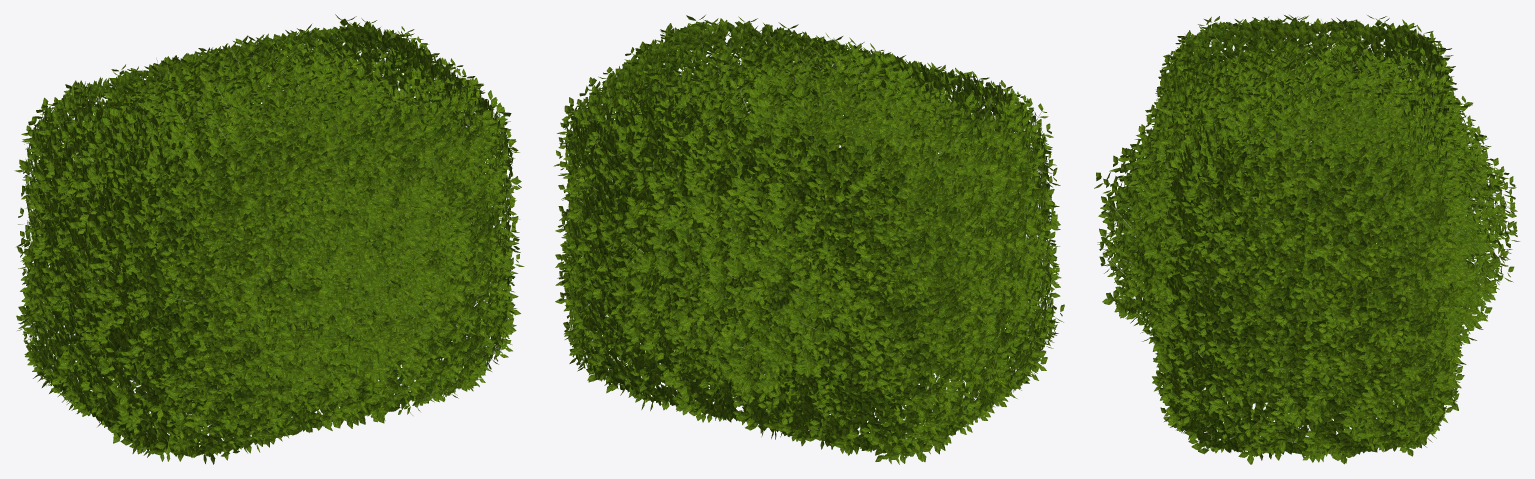
The model's file is boxwood-sempervirens-forma-original.glb.
3 renders of one model, left to right at view 1: azimuth 30°, elevation 25°; view 2: azimuth 150°, elevation 25°; view 3: azimuth 270°, elevation 25°, orthographic. The views are drawn at different scales.
Parts seen in each view (by area): view 1: BOXWOOD_HEDGE-leaf-green, BOXWOOD_HEDGE-leaf-mid, BOXWOOD_NATURAL-leaf-green, BOXWOOD_HEDGE-leaf-olive, BOXWOOD_HEDGE-leaf-tip, BOXWOOD_HEDGE-leaf-dark, BOXWOOD_NATURAL-leaf-mid, BOXWOOD_NATURAL-leaf-tip, BOXWOOD_NATURAL-leaf-olive, BOXWOOD_HEDGE-leaf-shadow, BOXWOOD_NATURAL-leaf-dark, BOXWOOD_HEDGE-leaf-young (+6 smaller); view 2: BOXWOOD_HEDGE-leaf-green, BOXWOOD_HEDGE-leaf-mid, BOXWOOD_HEDGE-leaf-olive, BOXWOOD_NATURAL-leaf-green, BOXWOOD_HEDGE-leaf-tip, BOXWOOD_HEDGE-leaf-dark, BOXWOOD_NATURAL-leaf-mid, BOXWOOD_NATURAL-leaf-olive, BOXWOOD_NATURAL-leaf-tip, BOXWOOD_HEDGE-leaf-shadow, BOXWOOD_NATURAL-leaf-dark, BOXWOOD_HEDGE-leaf-young (+6 smaller); view 3: BOXWOOD_HEDGE-leaf-green, BOXWOOD_HEDGE-leaf-mid, BOXWOOD_HEDGE-leaf-olive, BOXWOOD_NATURAL-leaf-green, BOXWOOD_HEDGE-leaf-tip, BOXWOOD_HEDGE-leaf-dark, BOXWOOD_NATURAL-leaf-mid, BOXWOOD_NATURAL-leaf-tip, BOXWOOD_NATURAL-leaf-olive, BOXWOOD_HEDGE-leaf-shadow, BOXWOOD_NATURAL-leaf-dark, BOXWOOD_HEDGE-leaf-young (+6 smaller).
Boxes of the visible parts, x1,y1,x2,y2 form: BOXWOOD_HEDGE-leaf-green: (14, 16, 521, 457); BOXWOOD_HEDGE-leaf-mid: (18, 14, 524, 464); BOXWOOD_NATURAL-leaf-green: (48, 39, 491, 414); BOXWOOD_HEDGE-leaf-olive: (22, 24, 518, 461); BOXWOOD_HEDGE-leaf-tip: (16, 18, 520, 463); BOXWOOD_HEDGE-leaf-dark: (24, 23, 513, 456); BOXWOOD_NATURAL-leaf-mid: (44, 40, 491, 411); BOXWOOD_NATURAL-leaf-tip: (51, 38, 494, 412); BOXWOOD_NATURAL-leaf-olive: (57, 49, 477, 414); BOXWOOD_HEDGE-leaf-shadow: (25, 25, 510, 456); BOXWOOD_NATURAL-leaf-dark: (55, 47, 487, 412); BOXWOOD_HEDGE-leaf-young: (17, 26, 515, 452); BOXWOOD_HEDGE-leaf-green: (555, 15, 1062, 461); BOXWOOD_HEDGE-leaf-mid: (555, 15, 1064, 464); BOXWOOD_HEDGE-leaf-olive: (562, 20, 1053, 463); BOXWOOD_NATURAL-leaf-green: (591, 35, 1029, 416); BOXWOOD_HEDGE-leaf-tip: (553, 18, 1063, 453); BOXWOOD_HEDGE-leaf-dark: (564, 25, 1057, 456); BOXWOOD_NATURAL-leaf-mid: (585, 33, 1023, 402); BOXWOOD_NATURAL-leaf-olive: (593, 46, 1019, 403); BOXWOOD_NATURAL-leaf-tip: (597, 37, 1029, 407); BOXWOOD_HEDGE-leaf-shadow: (567, 22, 1051, 449); BOXWOOD_NATURAL-leaf-dark: (595, 45, 1022, 402); BOXWOOD_HEDGE-leaf-young: (556, 29, 1057, 451); BOXWOOD_HEDGE-leaf-green: (1150, 15, 1469, 464); BOXWOOD_HEDGE-leaf-mid: (1149, 15, 1466, 464); BOXWOOD_HEDGE-leaf-olive: (1157, 20, 1458, 462); BOXWOOD_NATURAL-leaf-green: (1094, 37, 1517, 406); BOXWOOD_HEDGE-leaf-tip: (1150, 15, 1467, 458); BOXWOOD_HEDGE-leaf-dark: (1157, 20, 1460, 461); BOXWOOD_NATURAL-leaf-mid: (1096, 39, 1516, 403); BOXWOOD_NATURAL-leaf-tip: (1098, 42, 1517, 392); BOXWOOD_NATURAL-leaf-olive: (1105, 47, 1510, 406); BOXWOOD_HEDGE-leaf-shadow: (1163, 18, 1456, 455); BOXWOOD_NATURAL-leaf-dark: (1102, 52, 1510, 413); BOXWOOD_HEDGE-leaf-young: (1152, 18, 1461, 451).
Bounding box in the file's own units: 1.29 × 0.9667 × 1.17.
10 materials, 8 textured.
